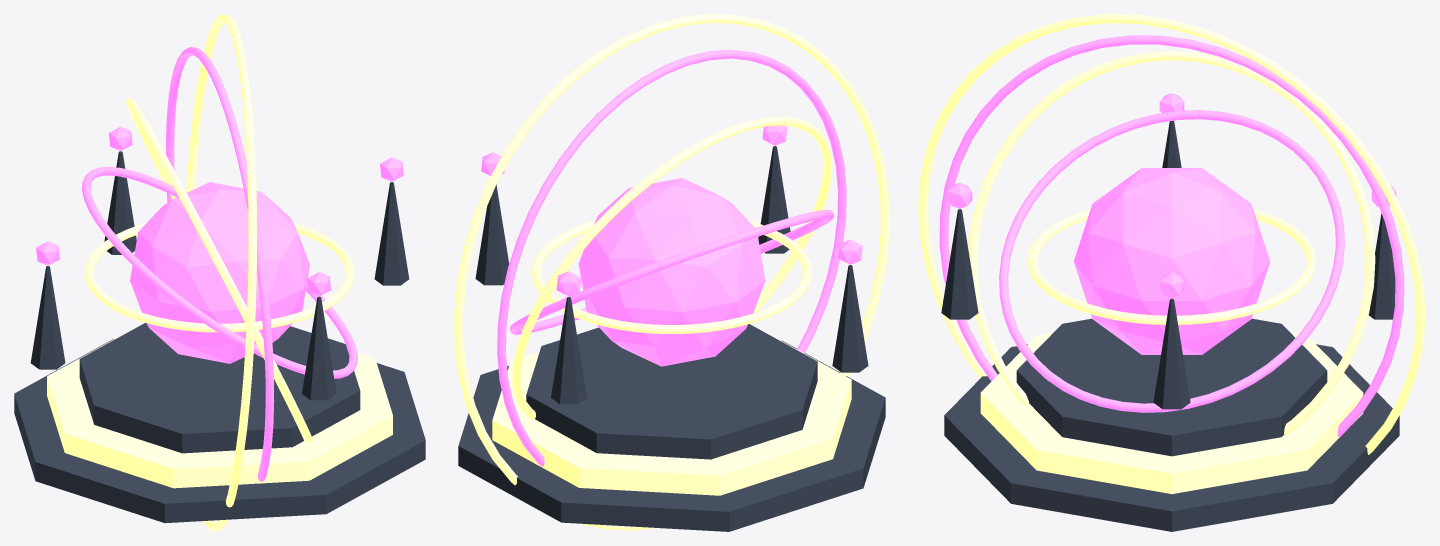
Rendered from gpu-blender-v44.glb.
The picture shows the model from 3 angles, left to right: view 1: azimuth 30°, elevation 25°; view 2: azimuth 150°, elevation 25°; view 3: azimuth 270°, elevation 25°; orthographic projection. The views are drawn at different scales.
Parts seen in each view (by area): view 1: Cylinder.002, SovereignCore_zoth-os, Cylinder, Cylinder.001, Torus.004, Torus.003, Torus.001, Torus, Torus.002, Cone.003, Cone, Cone.002 (+1 smaller); view 2: Cylinder.002, SovereignCore_zoth-os, Cylinder, Cylinder.001, Torus.004, Torus.003, Torus.002, Torus, Torus.001, Cone.001, Cone.002, Cone (+1 smaller); view 3: SovereignCore_zoth-os, Cylinder.002, Cylinder, Cylinder.001, Torus.004, Torus.001, Torus.003, Torus.002, Torus, Cone, Cone.003, Cone.001 (+1 smaller).
Boxes of the visible parts, x1,y1,x2,y2 form: Cylinder.002: (79,323,360,453); SovereignCore_zoth-os: (130,182,309,363); Cylinder: (14,339,425,523); Cylinder.001: (47,330,392,488); Torus.004: (186,14,257,531); Torus.003: (165,47,274,483); Torus.001: (82,166,357,378); Torus: (85,223,354,332); Torus.002: (126,98,312,442); Cone.003: (302,296,336,400); Cone: (374,182,409,285); Cone.002: (30,266,65,369); Cylinder.002: (526,324,817,459); SovereignCore_zoth-os: (578,178,765,366); Cylinder: (458,340,885,531); Cylinder.001: (492,331,851,495); Torus.004: (454,14,889,530); Torus.003: (497,49,846,466); Torus.002: (512,116,831,419); Torus: (531,220,812,333); Torus.001: (510,209,833,334); Cone.001: (551,297,586,404); Cone.002: (832,265,868,372); Cone: (475,184,509,285); SovereignCore_zoth-os: (1073,168,1270,354); Cylinder.002: (1016,318,1327,456); Cylinder: (944,344,1399,531); Cylinder.001: (980,332,1363,493); Torus.004: (918,14,1425,454); Torus.001: (999,110,1344,412); Torus.003: (939,35,1404,437); Torus.002: (969,51,1375,435); Torus: (1027,209,1316,324); Cone: (1153,298,1190,409); Cone.003: (941,209,978,319); Cone.001: (1368,213,1395,319).
Bounding box in the file's own units: 4.41 × 5.33 × 4.9.
